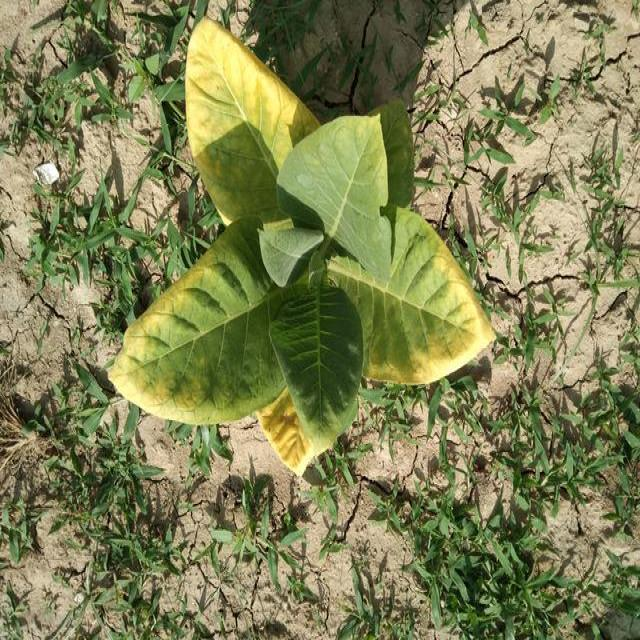crop: (112, 28, 496, 458)
